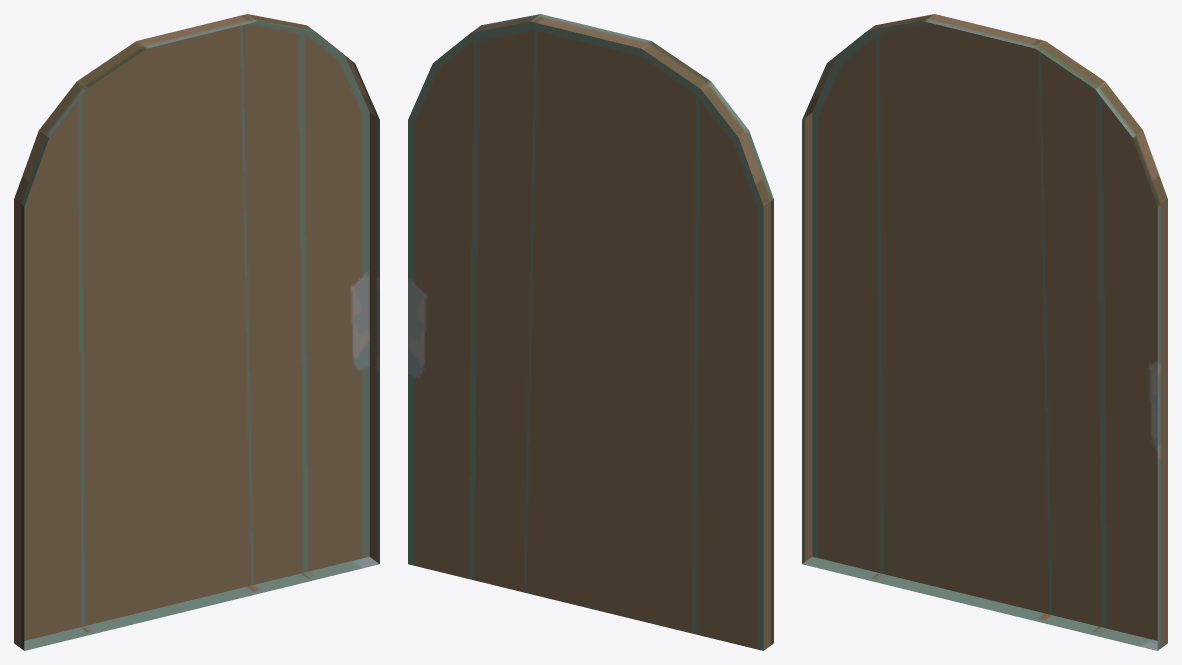
File: DOOR.fbx
3 renders of one model, left to right at view 1: azimuth 30°, elevation 25°; view 2: azimuth 150°, elevation 25°; view 3: azimuth 330°, elevation 25°, orthographic.
Parts seen in each view (by area): view 1: DOOR; view 2: DOOR; view 3: DOOR.
Boxes of the visible parts, left/top/right/bottom form: DOOR: left=14, top=14, right=379, bottom=650; DOOR: left=408, top=14, right=773, bottom=650; DOOR: left=802, top=14, right=1167, bottom=650.
Bounding box in the file's own units: 293 × 451 × 14.73.
Materials: 1 (1 with a texture image).
